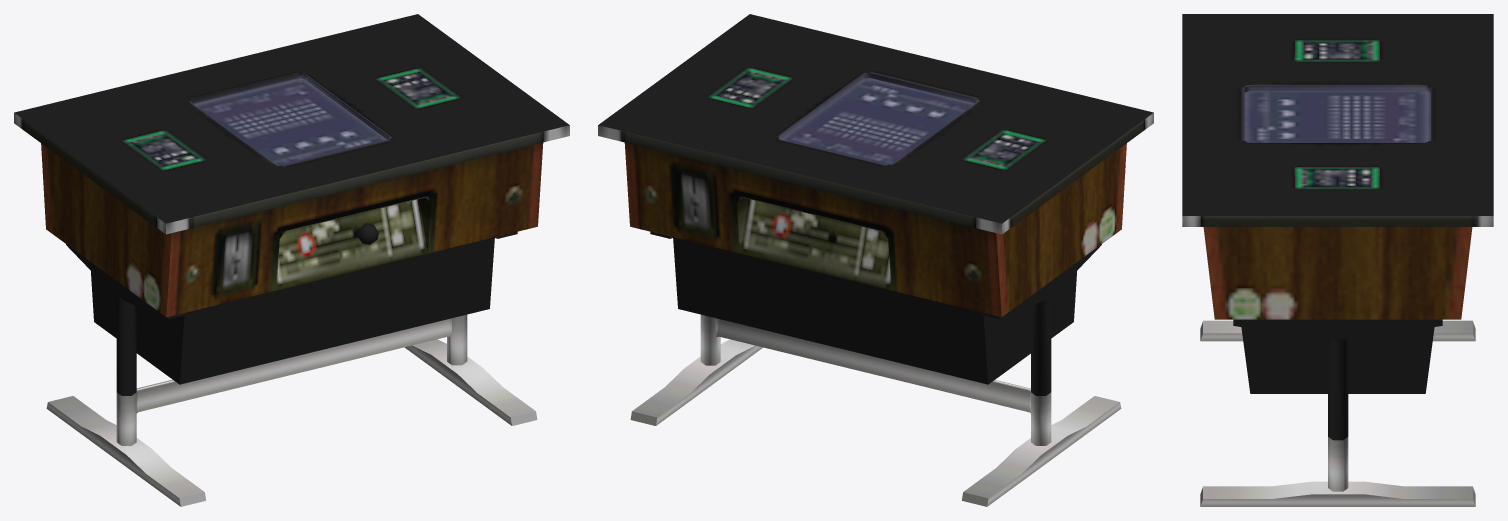
Rendered from sia_icon.ico.obj.
3 renders of one model, left to right at view 1: azimuth 30°, elevation 25°; view 2: azimuth 150°, elevation 25°; view 3: azimuth 270°, elevation 25°, orthographic. The views are drawn at different scales.
Size of the model in its own units: 3.22 by 2.25 by 2.1.
1 material, 1 textured.
